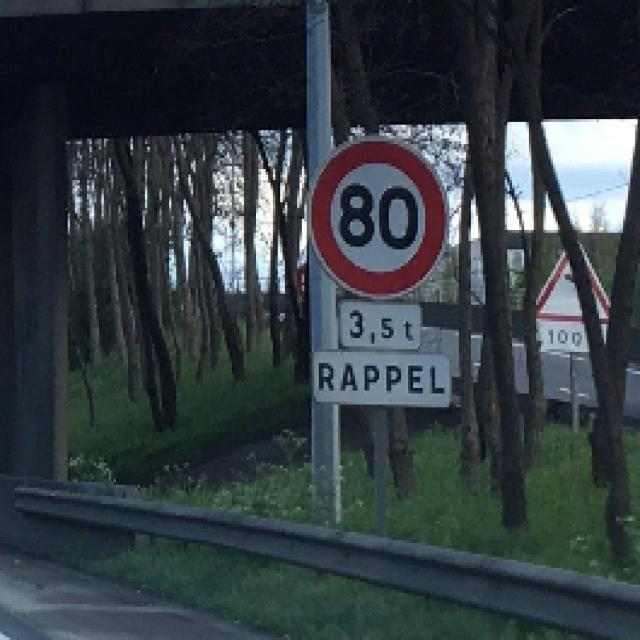speed_80: (306, 133, 454, 299)
